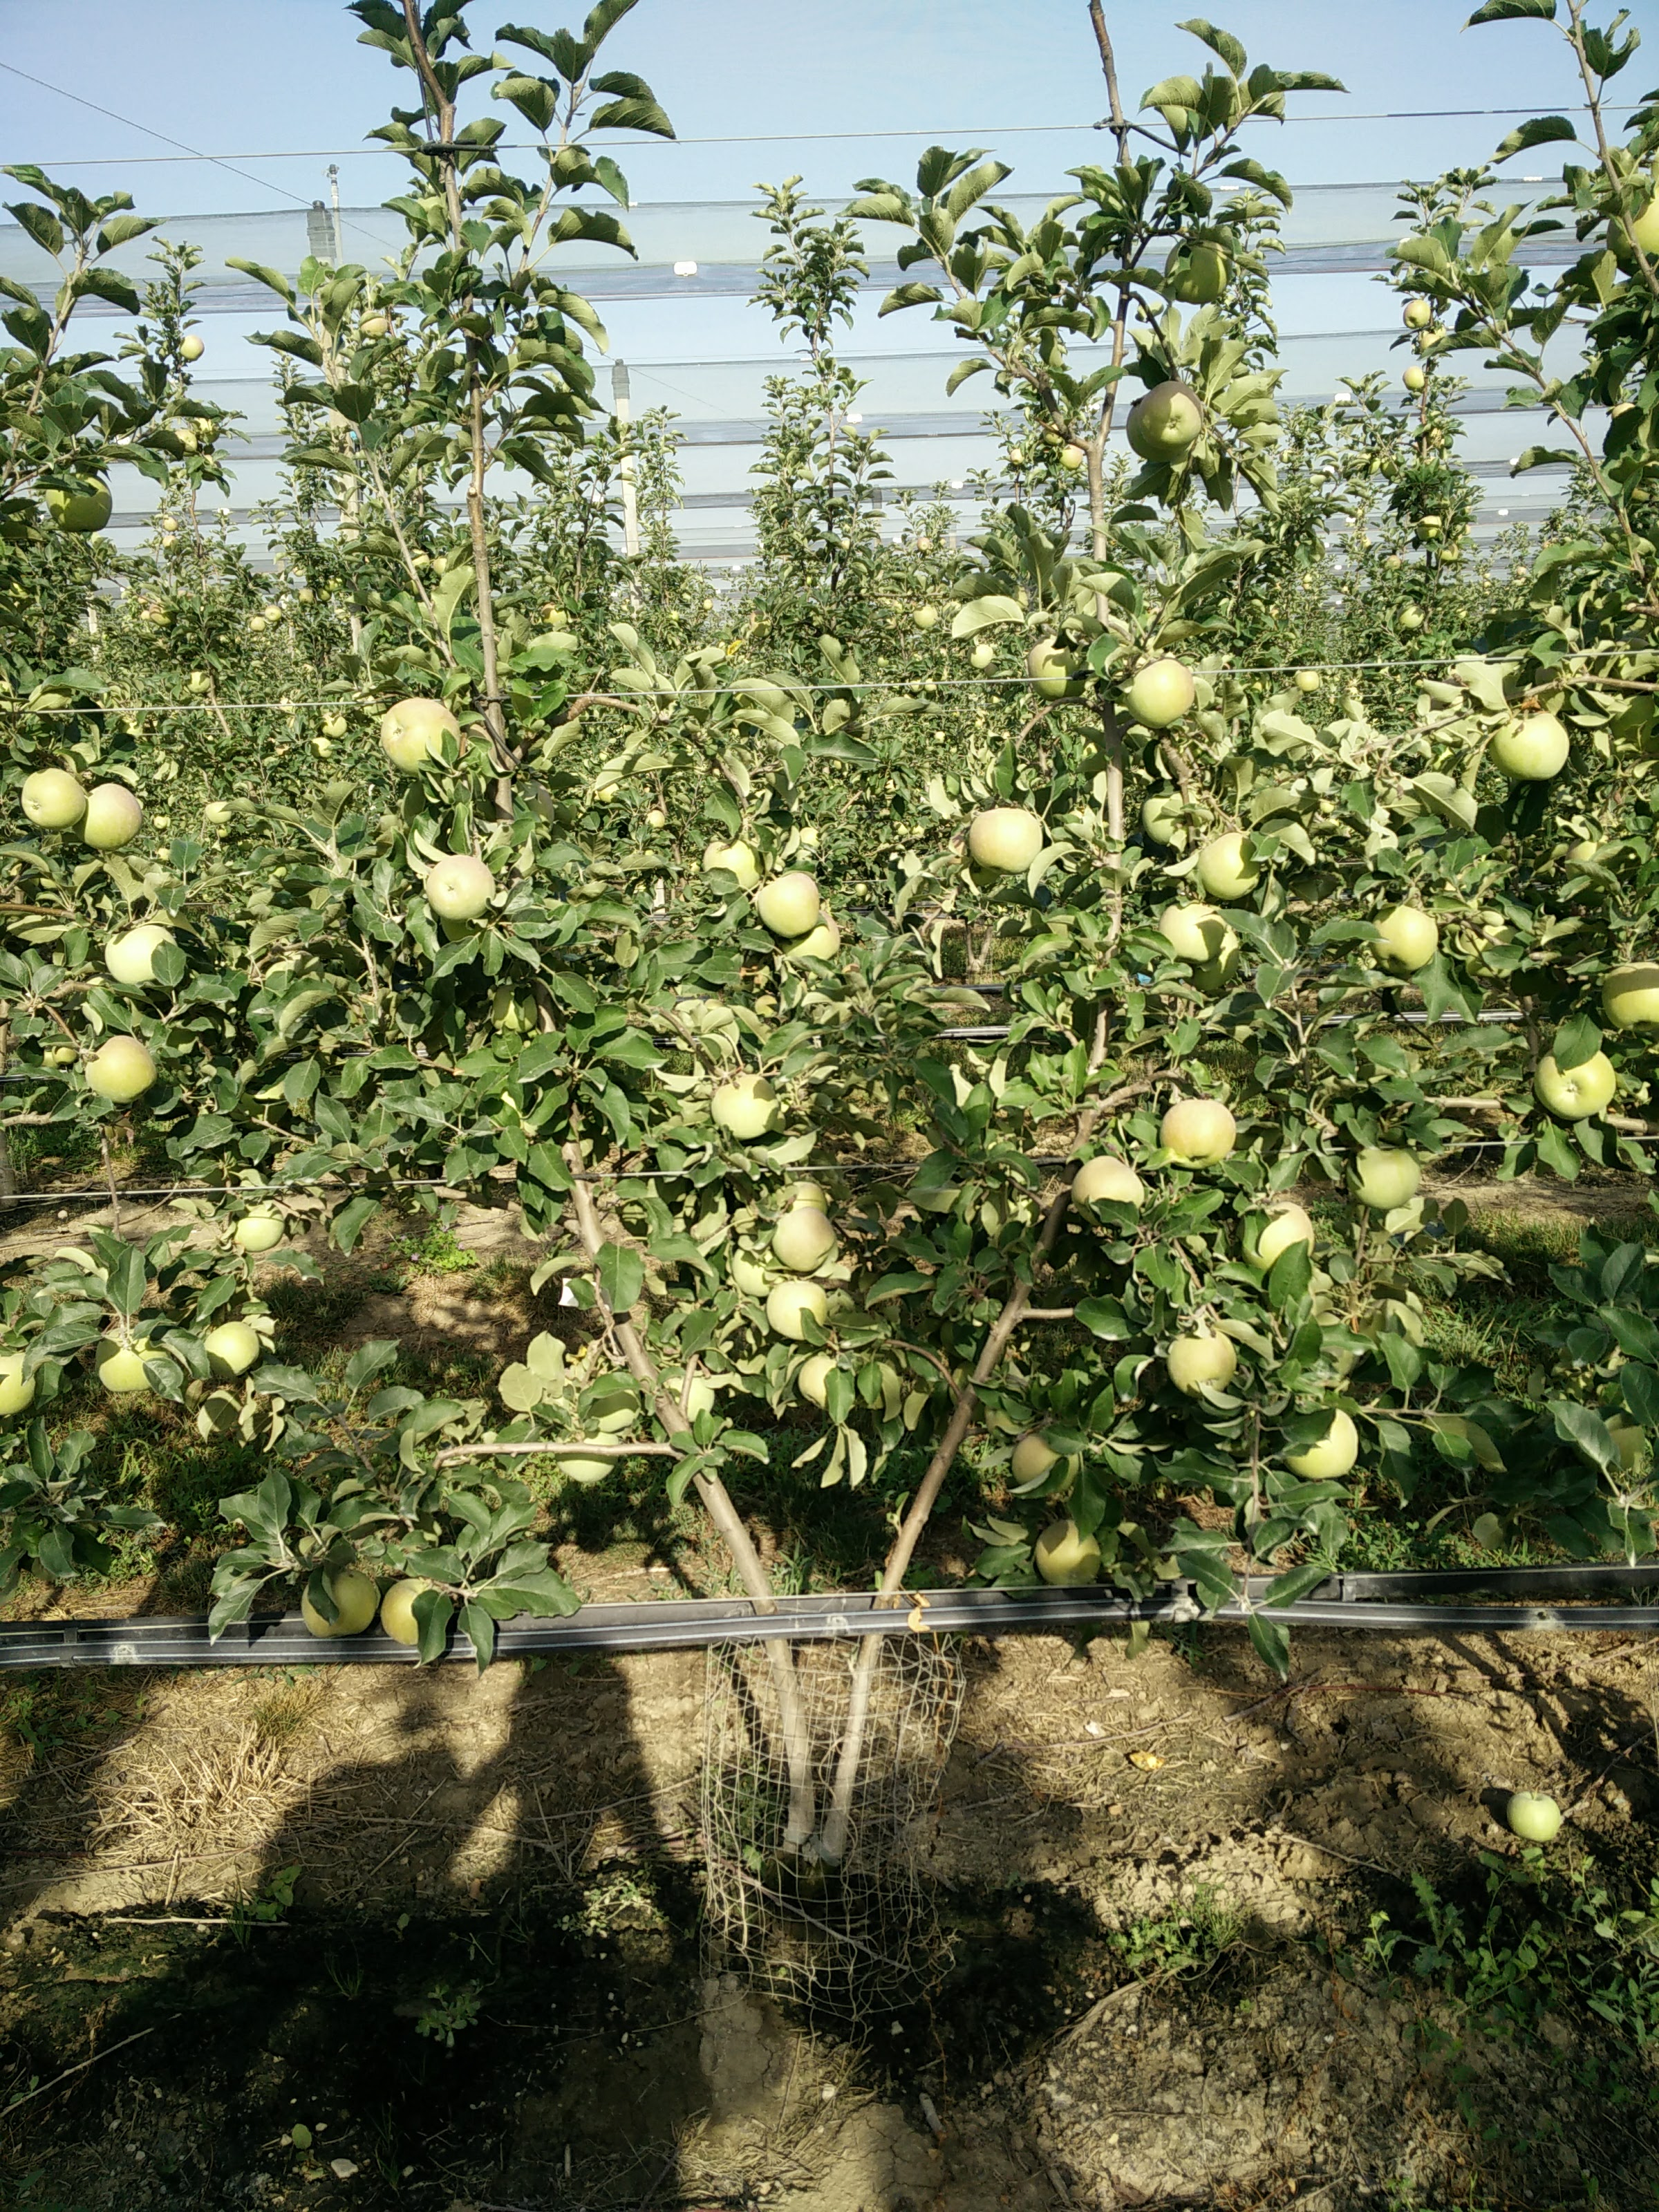apple: (373, 693, 465, 774), (1277, 1406, 1365, 1483), (1531, 1041, 1615, 1118), (1116, 650, 1197, 727), (1154, 1096, 1237, 1170), (79, 1032, 160, 1105), (967, 805, 1050, 873), (1028, 1517, 1104, 1591), (299, 1567, 378, 1639), (100, 924, 178, 993), (1492, 713, 1569, 782), (1364, 903, 1442, 973), (71, 780, 142, 853), (420, 853, 496, 921), (1024, 636, 1101, 702), (753, 870, 826, 939), (706, 1069, 781, 1138), (1347, 1142, 1424, 1209), (1135, 382, 1207, 450), (95, 1322, 165, 1391), (1167, 1323, 1237, 1393), (1191, 833, 1266, 897), (1068, 1152, 1141, 1215), (19, 762, 84, 831), (770, 1206, 836, 1270), (765, 1276, 832, 1341), (701, 836, 773, 896), (1602, 959, 1659, 1031), (1157, 900, 1226, 957), (196, 1321, 263, 1378)
